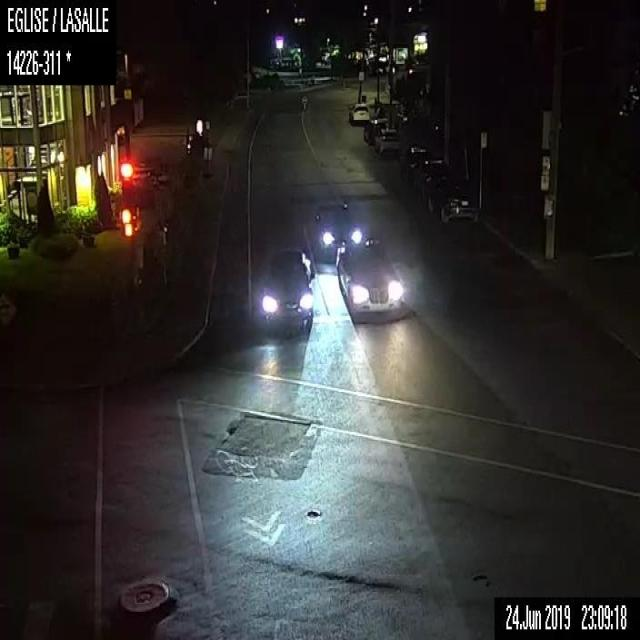vehicle: (335, 241, 401, 316), (254, 245, 312, 328), (308, 202, 366, 261), (426, 176, 477, 222), (412, 158, 447, 200), (398, 146, 428, 184), (373, 125, 402, 157), (362, 117, 386, 145), (348, 101, 369, 123)
